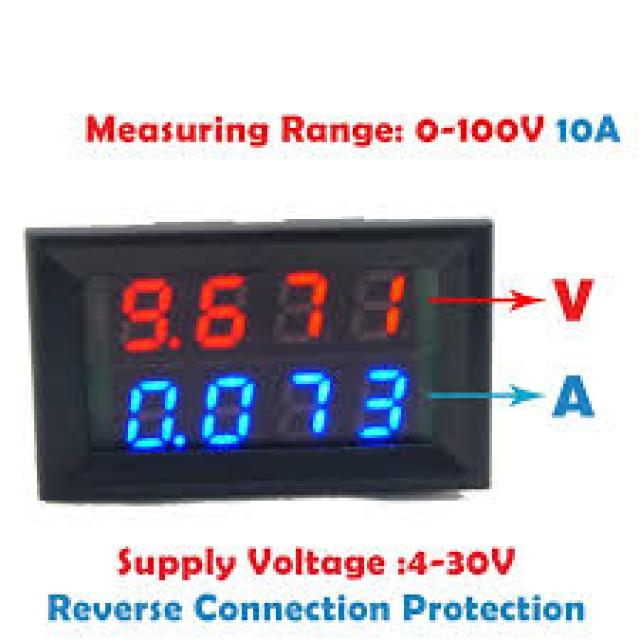.: (172, 431, 187, 451), (168, 333, 181, 351)
0: (106, 370, 192, 463), (198, 368, 275, 456)
1: (357, 264, 435, 347)
3: (361, 362, 430, 445)
6: (191, 264, 263, 357)
7: (276, 263, 346, 356), (285, 368, 354, 452)
9: (103, 270, 183, 360)
screen: (76, 271, 425, 456)
